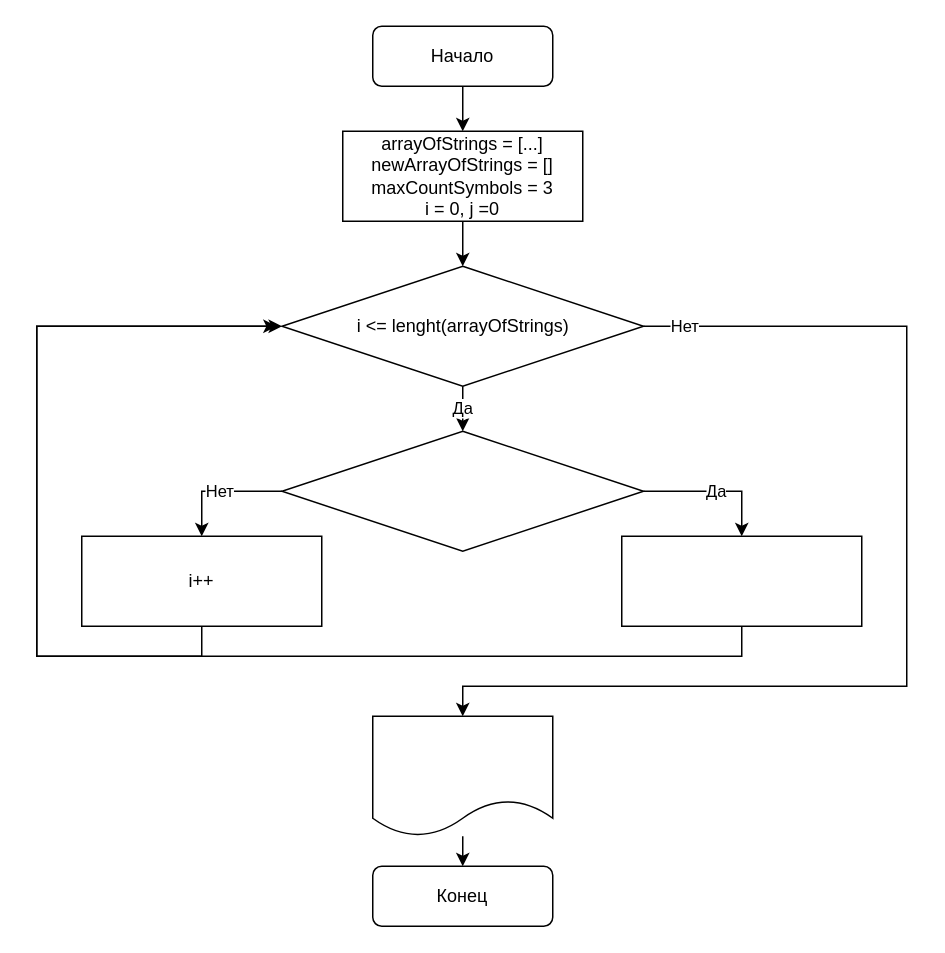
The diagram is 945 pixels wide and 953 high, and some of its shapes have lost their labels. Here are the shapes that lost their labels. From the top down, the box of each, then its label:
(280, 430, 644, 551): string.lenght(arrayOfStrings[i]) <= maxCountSymbols
(620, 535, 862, 626): newArrayOfStrings[j] = arrayOfStrings[i] j++ i++
(371, 715, 553, 836): newArrayOfStrings[...]
